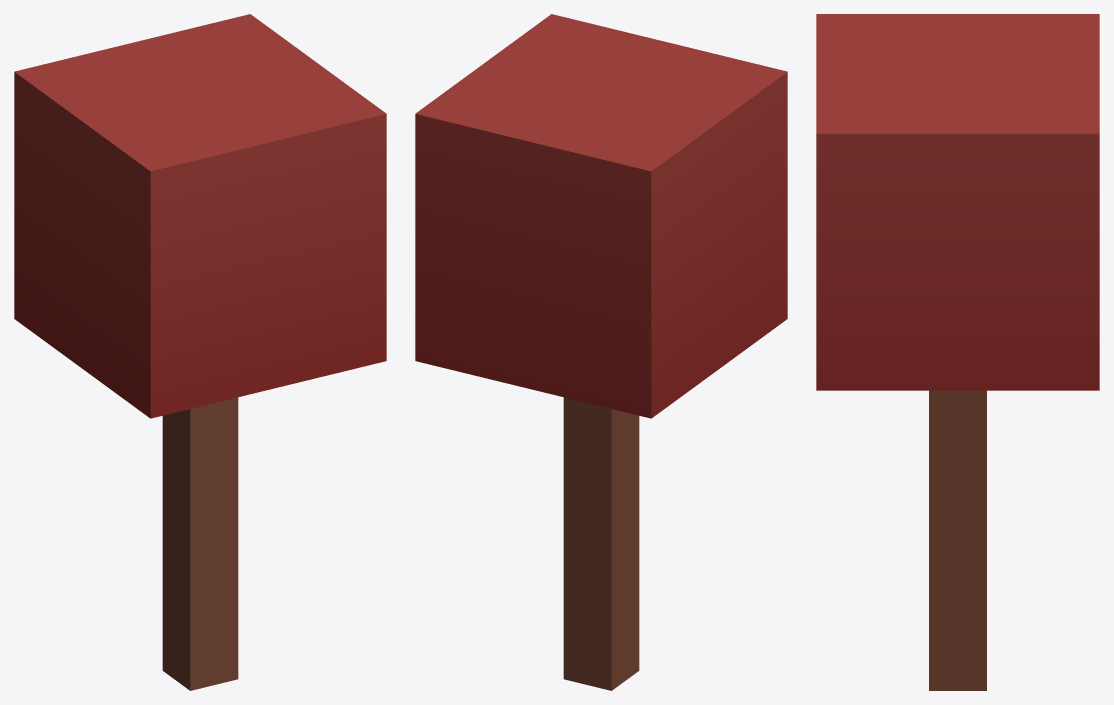
Rendered from Tree_47_gradient_red_vc.fbx.
The picture shows the model from 3 angles, left to right: view 1: azimuth 30°, elevation 25°; view 2: azimuth 150°, elevation 25°; view 3: azimuth 270°, elevation 25°; orthographic projection. The views are drawn at different scales.
Parts seen in each view (by area): view 1: Tree_47_gradient_red_vc; view 2: Tree_47_gradient_red_vc; view 3: Tree_47_gradient_red_vc.
Boxes of the visible parts, <box> form: Tree_47_gradient_red_vc: <box>14,14,386,690</box>; Tree_47_gradient_red_vc: <box>415,14,787,690</box>; Tree_47_gradient_red_vc: <box>816,14,1099,690</box>.
Bounding box in the file's own units: 72.7 × 171 × 72.7.
